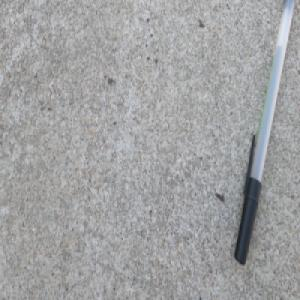Pen: (232, 0, 295, 267)
